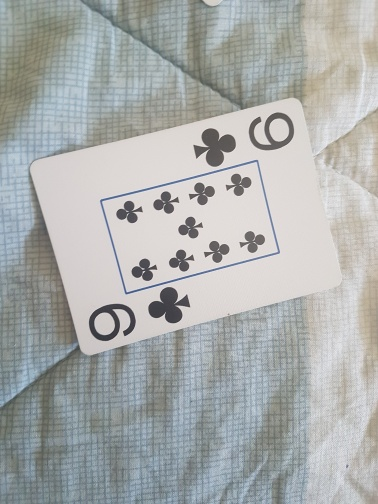nine: (31, 97, 343, 356)
